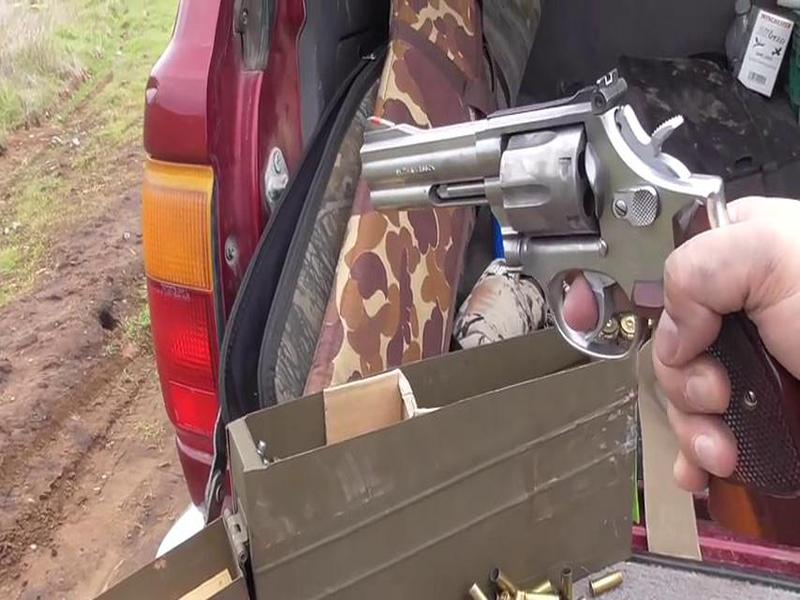Revolver: (349, 45, 765, 359)
